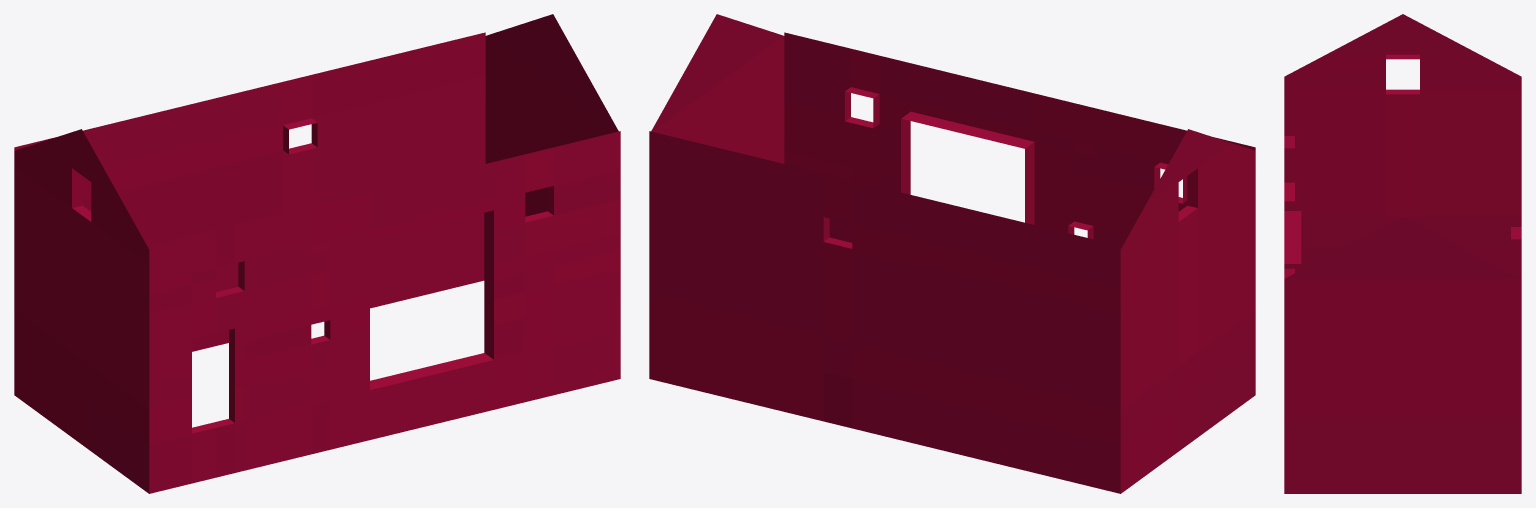
File: SM_Bld_153_Masonry.glb
The picture shows the model from 3 angles, left to right: view 1: azimuth 30°, elevation 25°; view 2: azimuth 150°, elevation 25°; view 3: azimuth 270°, elevation 25°; orthographic projection. The views are drawn at different scales.
Parts seen in each view (by area): view 1: SM_Bld_153_Masonry; view 2: SM_Bld_153_Masonry; view 3: SM_Bld_153_Masonry.
Part boxes in pixels (x1,y1,x2,y2): SM_Bld_153_Masonry: [14, 14, 620, 493]; SM_Bld_153_Masonry: [649, 14, 1255, 493]; SM_Bld_153_Masonry: [1284, 14, 1521, 493].
Bounding box in the file's own units: 9.89 × 6.33 × 4.9.
